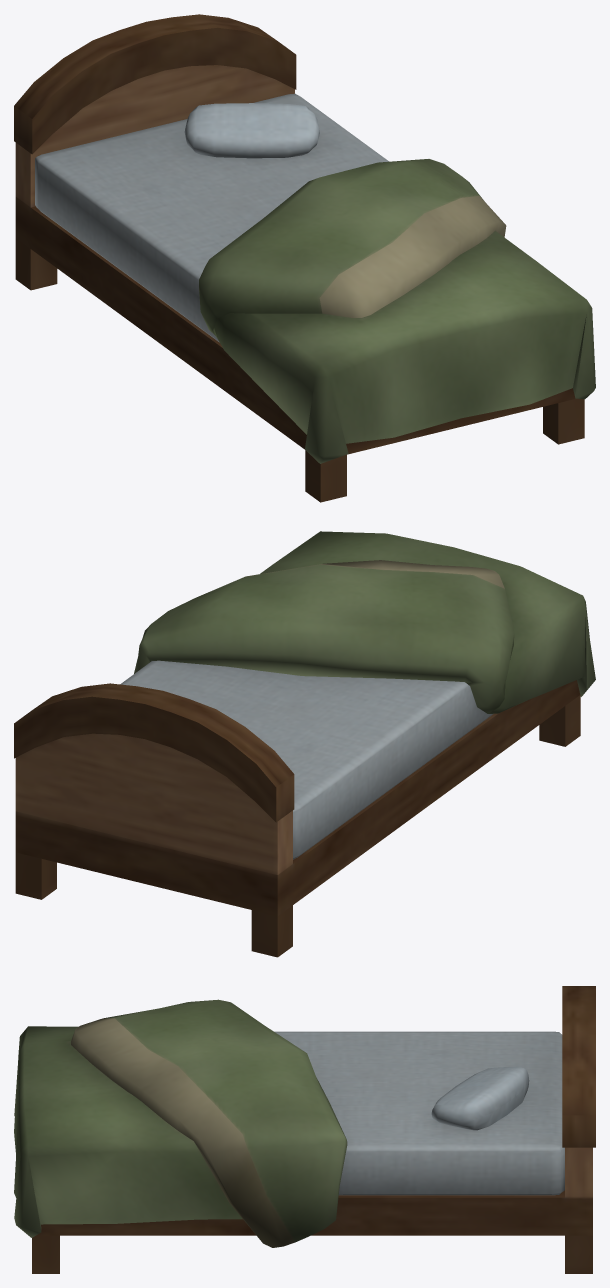
The model's file is sb_obj_indoor036_bed02.fbx.
3 renders of one model, top to bottom at view 1: azimuth 30°, elevation 25°; view 2: azimuth 150°, elevation 25°; view 3: azimuth 270°, elevation 25°, orthographic. The views are drawn at different scales.
Parts seen in each view (by area): view 1: sb_obj_indoor036_bed02; view 2: sb_obj_indoor036_bed02; view 3: sb_obj_indoor036_bed02.
Part boxes in pixels (box(x1,y1,x2,y2)): sb_obj_indoor036_bed02: box(14, 14, 595, 502); sb_obj_indoor036_bed02: box(14, 531, 595, 957); sb_obj_indoor036_bed02: box(14, 986, 595, 1273).
Bounding box in the file's own units: 1.14 × 0.7785 × 1.99.
